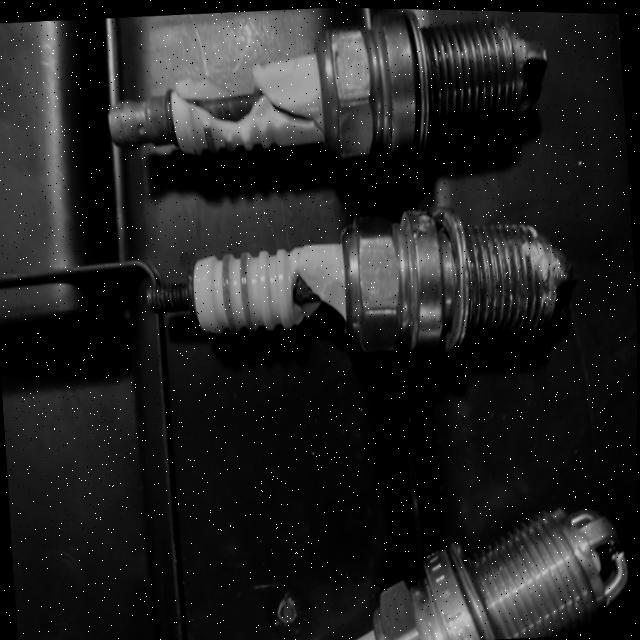damaged_spark-plug: (98, 2, 553, 171), (138, 199, 576, 359)
